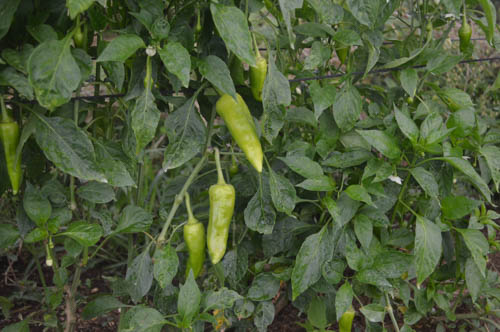ChiliPepper: (219, 96, 265, 169), (206, 185, 235, 263), (2, 124, 25, 194), (181, 224, 206, 277), (251, 62, 268, 101)
